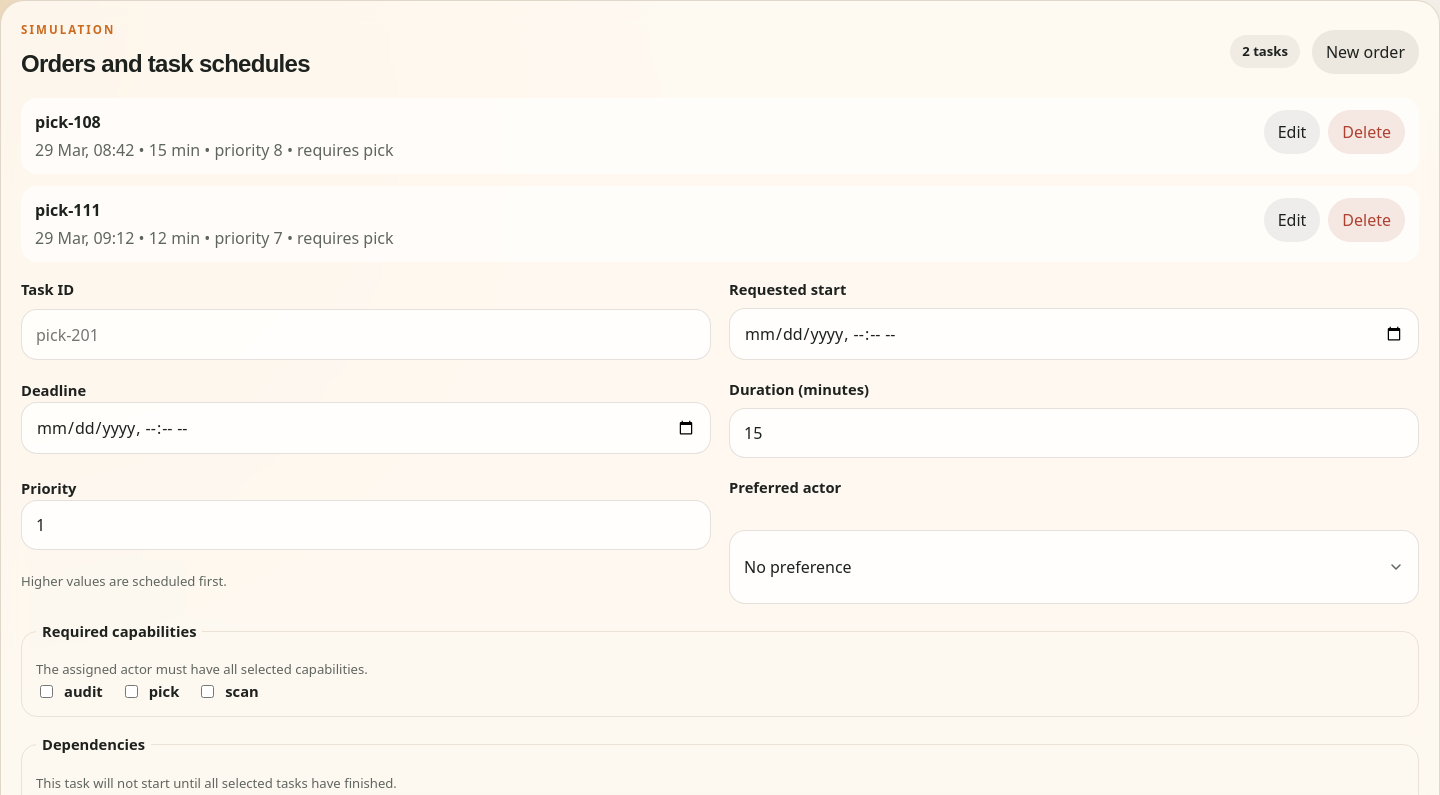
it: TaskSimulator › clears the draft and hides the simulator when no workflow is selected
Click the button "Edit" in the row of "15" at (1292, 132), box [1264,110,1320,154]
(page scrolled)
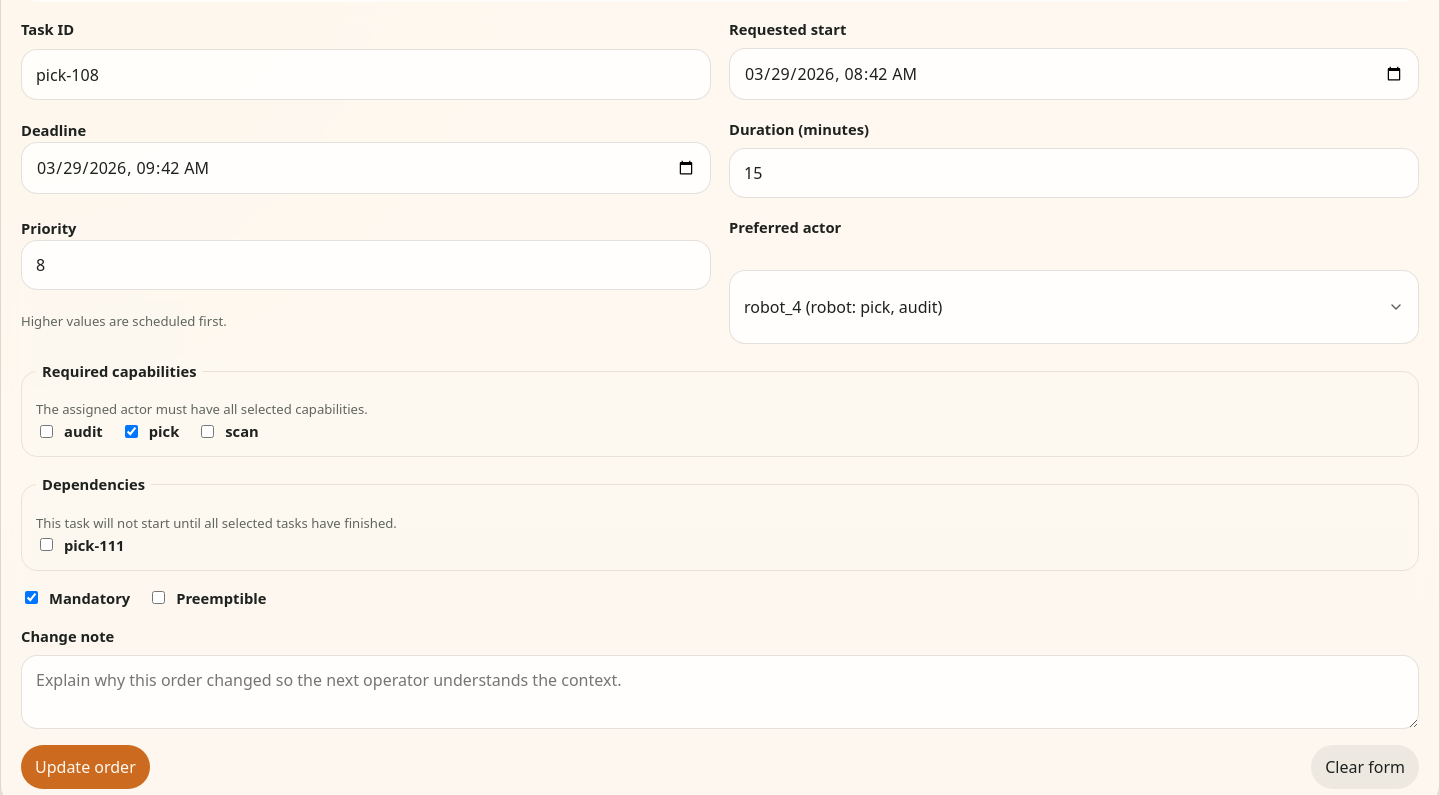
Click the checkbox labelled "Preemptible" at (159, 598), box [152,591,165,604]
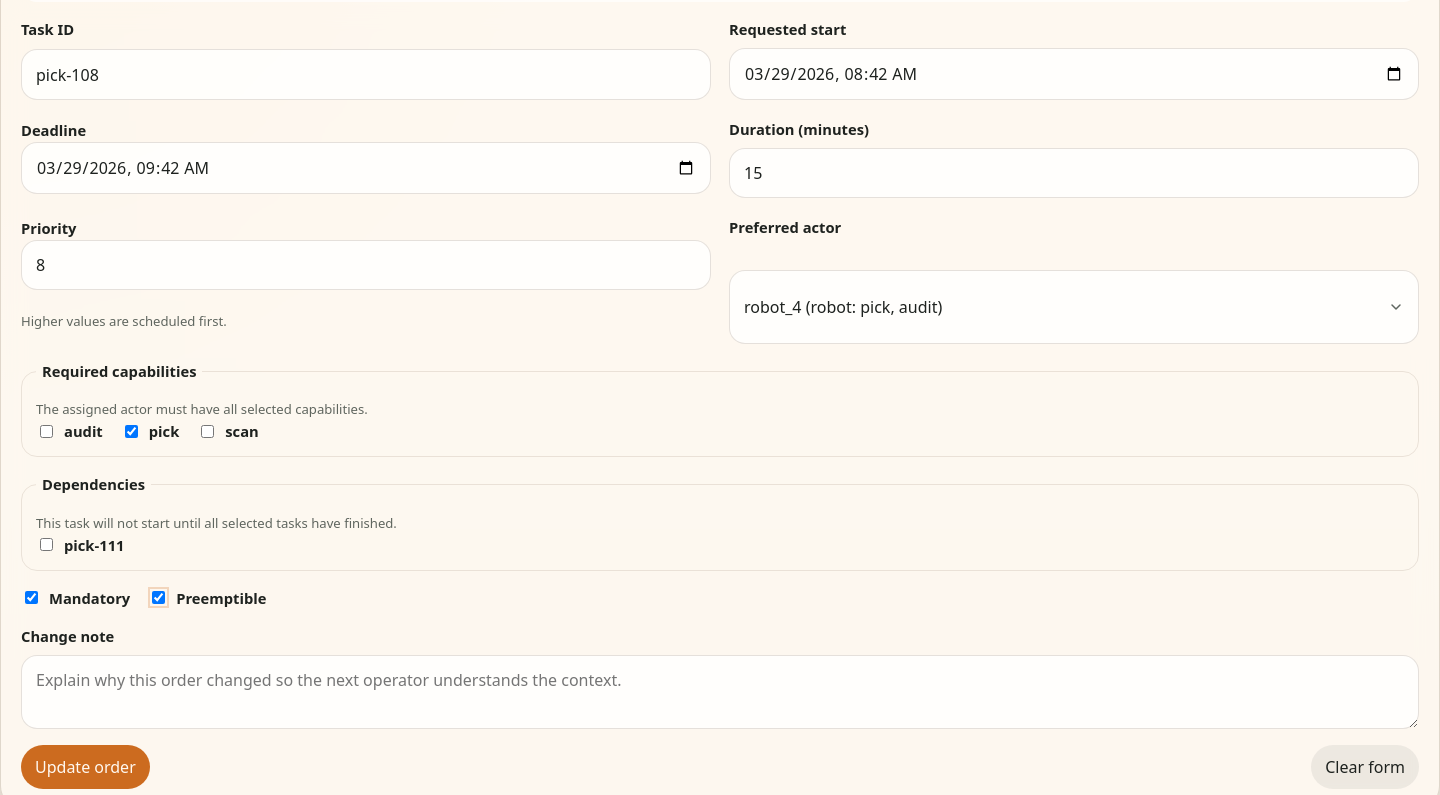
Type "Temporary change" into the text box labelled "Change note" at (720, 692), box [21,655,1419,729]
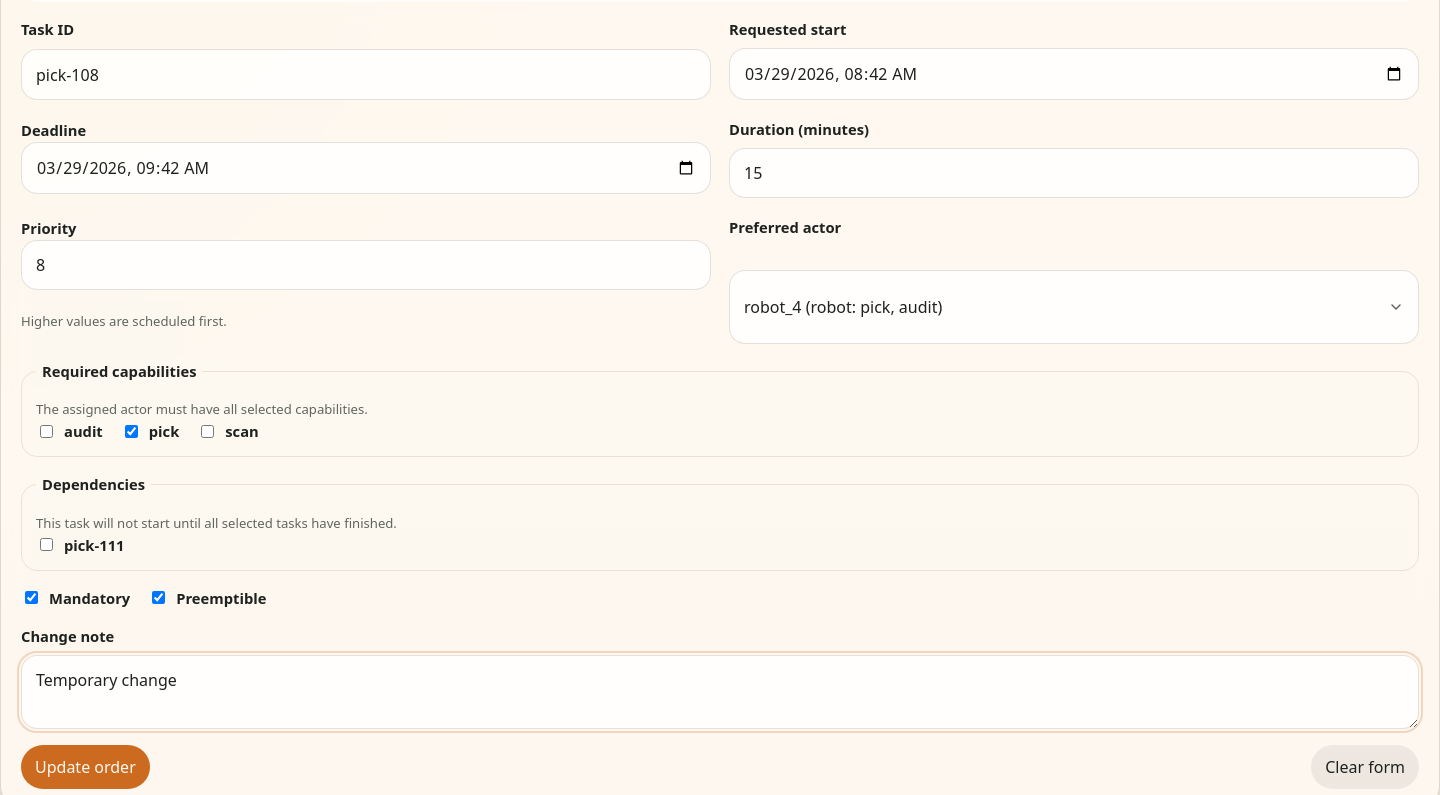
Click the button "Clear form" at (1365, 767), box [1311,745,1419,789]
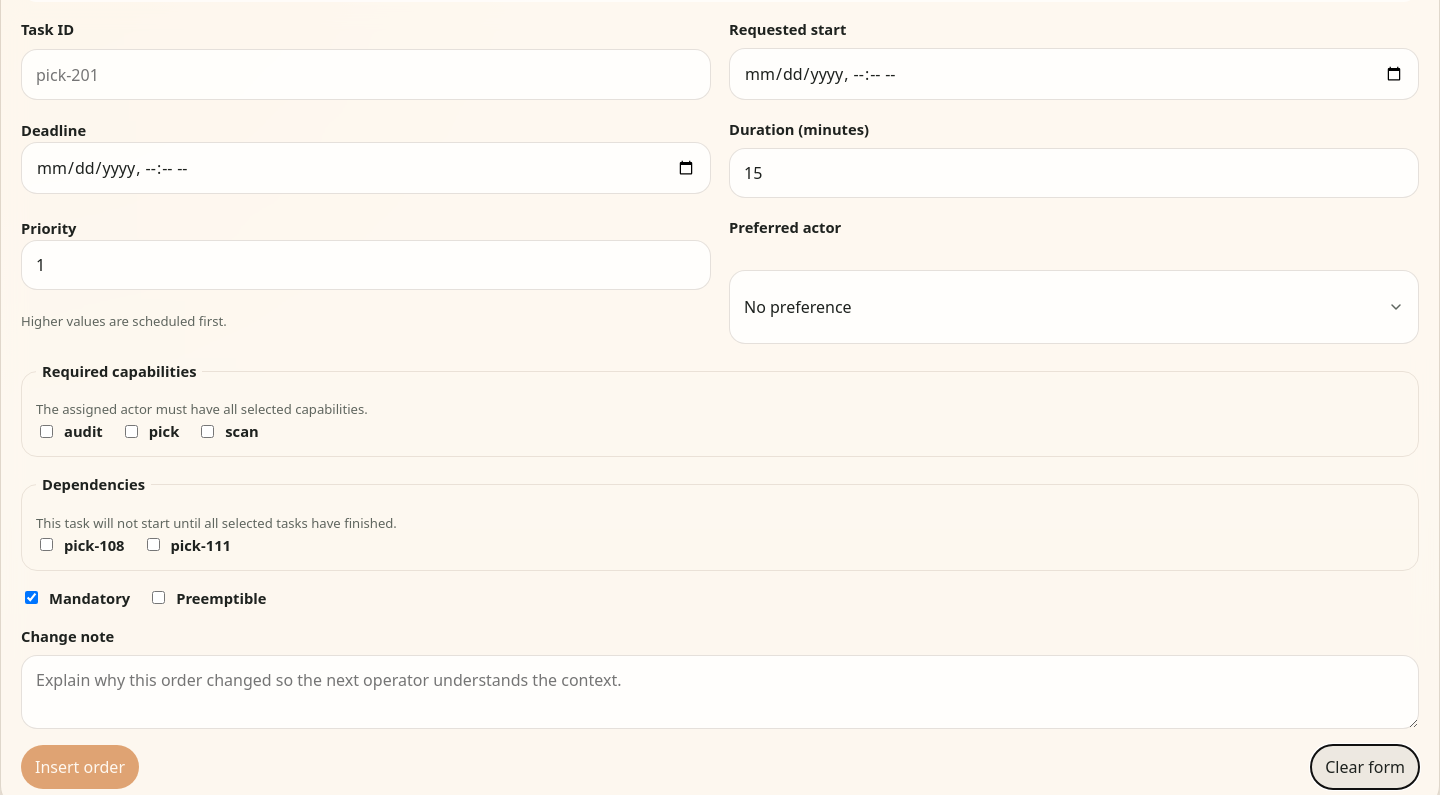
Check: the checkbox labelled "Preemptible" is not checked, box [152,591,165,604]
Check: the field labelled "Task ID" is empty, box [21,49,711,100]
